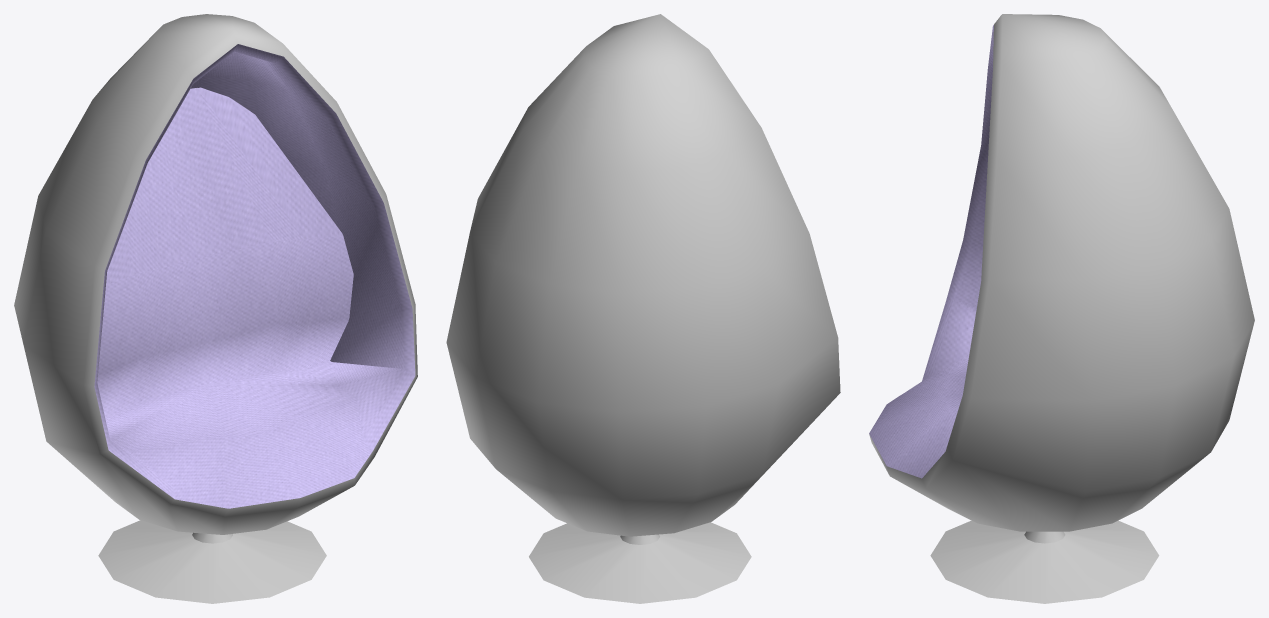
Rendered from Eggchair_A_01.FBX.
3 renders of one model, left to right at view 1: azimuth 30°, elevation 25°; view 2: azimuth 150°, elevation 25°; view 3: azimuth 270°, elevation 25°, orthographic. The views are drawn at different scales.
Parts seen in each view (by area): view 1: Egg_chair; view 2: Egg_chair; view 3: Egg_chair.
Boxes of the visible parts, left/top/right/bottom form: Egg_chair: left=14, top=14, right=417, bottom=603; Egg_chair: left=446, top=14, right=840, bottom=603; Egg_chair: left=869, top=14, right=1254, bottom=603.
Size of the model in its own units: 168 by 261 by 169.
